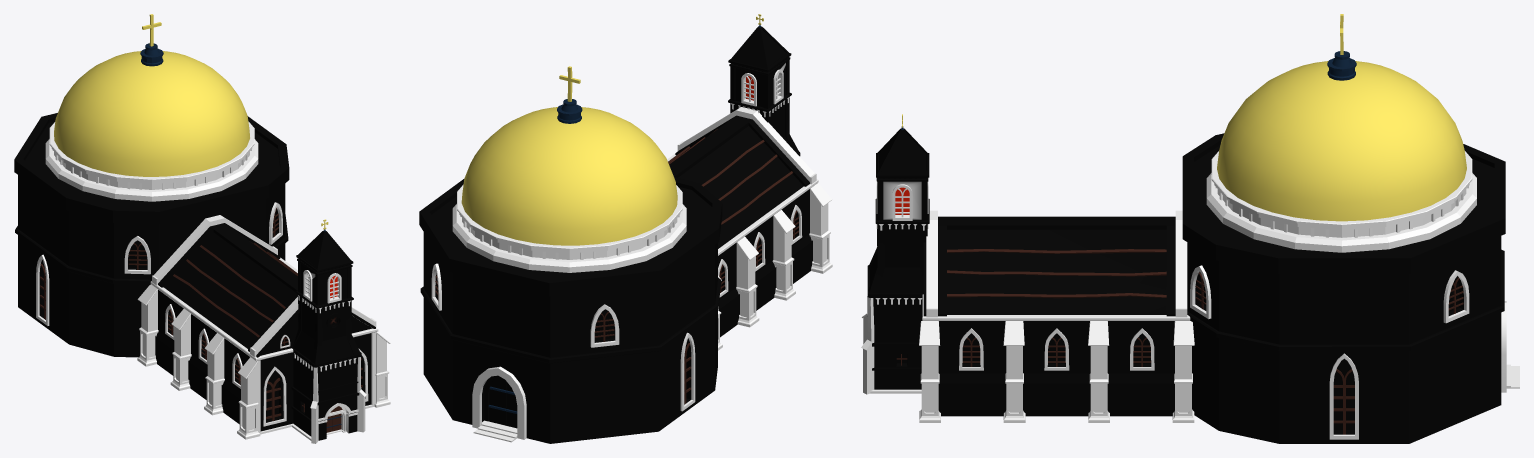
The model's file is church_a.FBX.
3 renders of one model, left to right at view 1: azimuth 30°, elevation 25°; view 2: azimuth 150°, elevation 25°; view 3: azimuth 270°, elevation 25°, orthographic. The views are drawn at different scales.
Visible parts, largest first — view 1: church_a; view 2: church_a; view 3: church_a.
Boxes of the visible parts, x1=… form: church_a: x1=14, y1=14, x2=390, y2=443; church_a: x1=419, y1=14, x2=832, y2=443; church_a: x1=861, y1=14, x2=1519, y2=443.
Size of the model in its own units: 2970 by 3681 by 6051.
